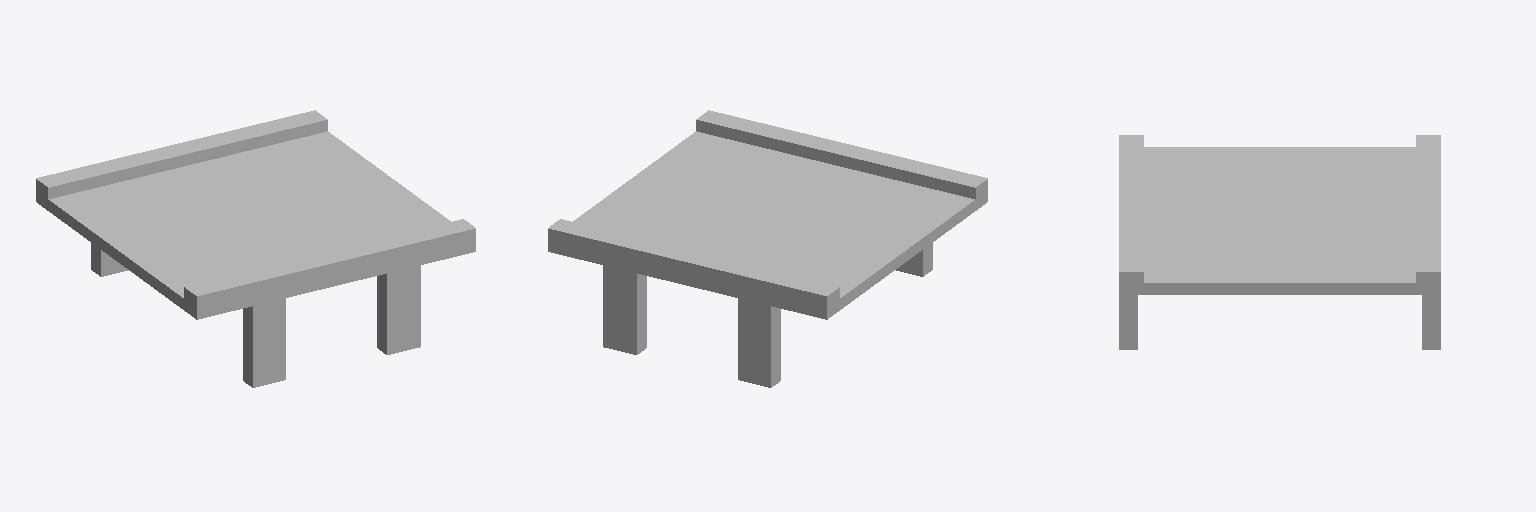
Rendered from Front_road.obj.
The picture shows the model from 3 angles: view 1: azimuth 30°, elevation 25°; view 2: azimuth 150°, elevation 25°; view 3: azimuth 270°, elevation 25°; orthographic projection.
Visible parts, largest first — view 1: Front_road; view 2: Front_road; view 3: Front_road.
Part boxes in pixels (left/top/right/bottom): Front_road: left=36, top=110, right=475, bottom=387; Front_road: left=548, top=110, right=987, bottom=387; Front_road: left=1119, top=135, right=1440, bottom=349.
Size of the model in its own units: 50 by 18 by 50.